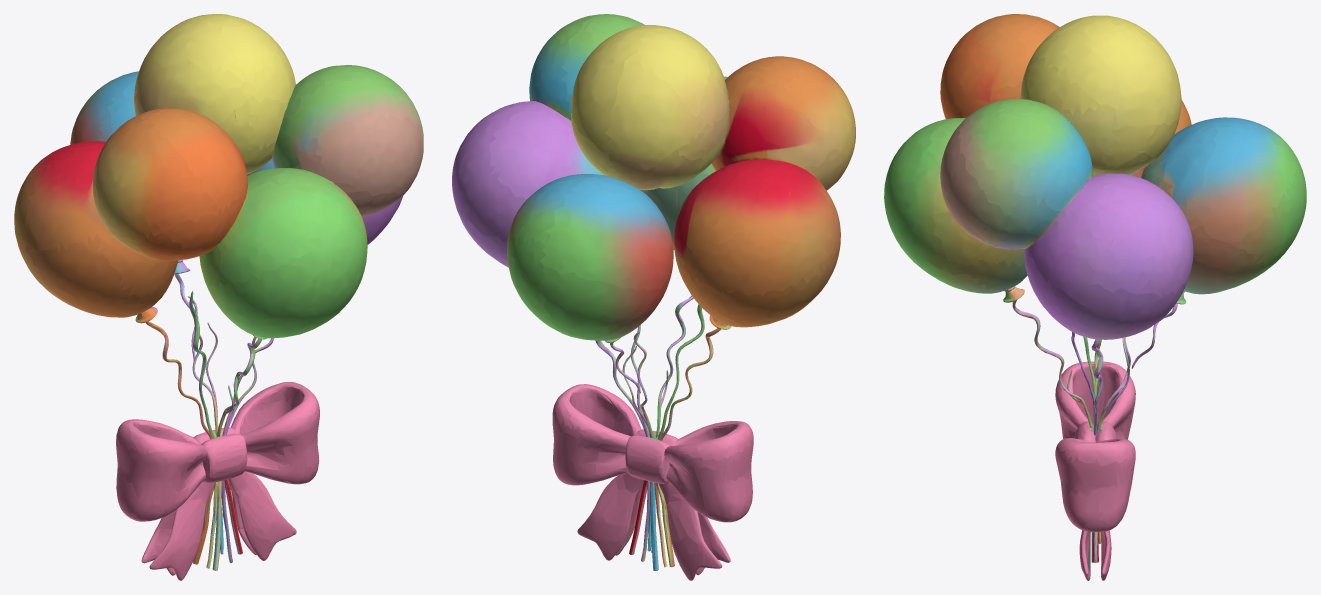
The model's file is rainbow-balloon-bunch-v1.glb.
3 views of the same model, side by side, from view 1: azimuth 30°, elevation 25°; view 2: azimuth 150°, elevation 25°; view 3: azimuth 270°, elevation 25° (orthographic).
Bounding box in the file's own units: 1.19 × 1.67 × 1.19.
1 material, 1 textured.
